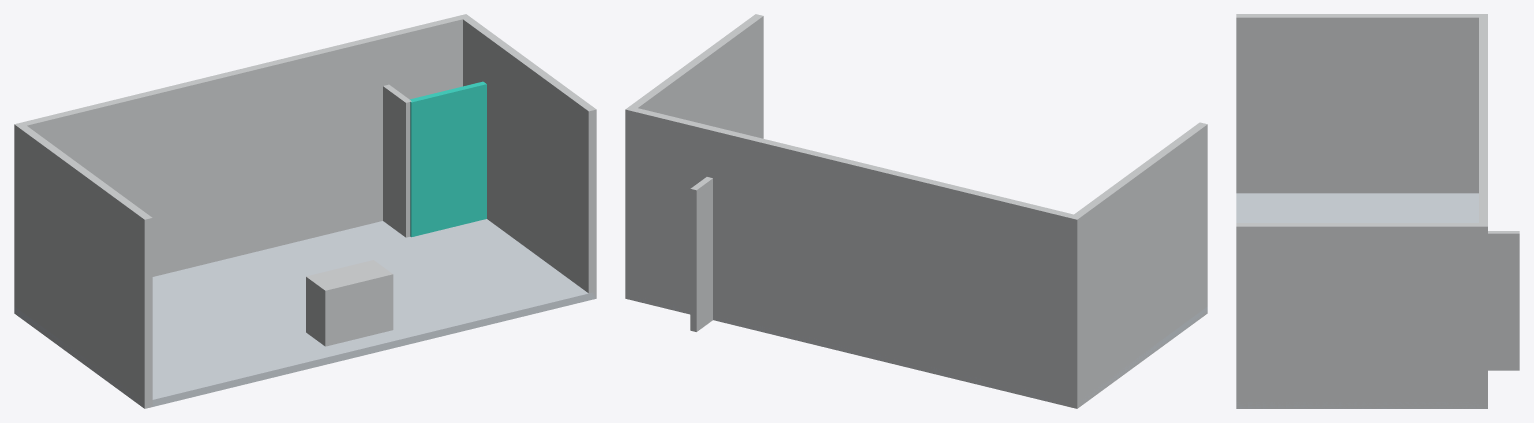
The picture shows the model from 3 angles, left to right: view 1: azimuth 30°, elevation 25°; view 2: azimuth 150°, elevation 25°; view 3: azimuth 270°, elevation 25°; orthographic projection. The views are drawn at different scales.
Parts seen in each view (by area): view 1: Exhibition Booth Concept; view 2: Exhibition Booth Concept; view 3: Exhibition Booth Concept.
Part boxes in pixels (left/top/right/bottom): Exhibition Booth Concept: left=14, top=14, right=596, bottom=408; Exhibition Booth Concept: left=625, top=14, right=1207, bottom=408; Exhibition Booth Concept: left=1236, top=14, right=1519, bottom=408.
Size of the model in its own units: 8 by 3.2 by 4.51.
